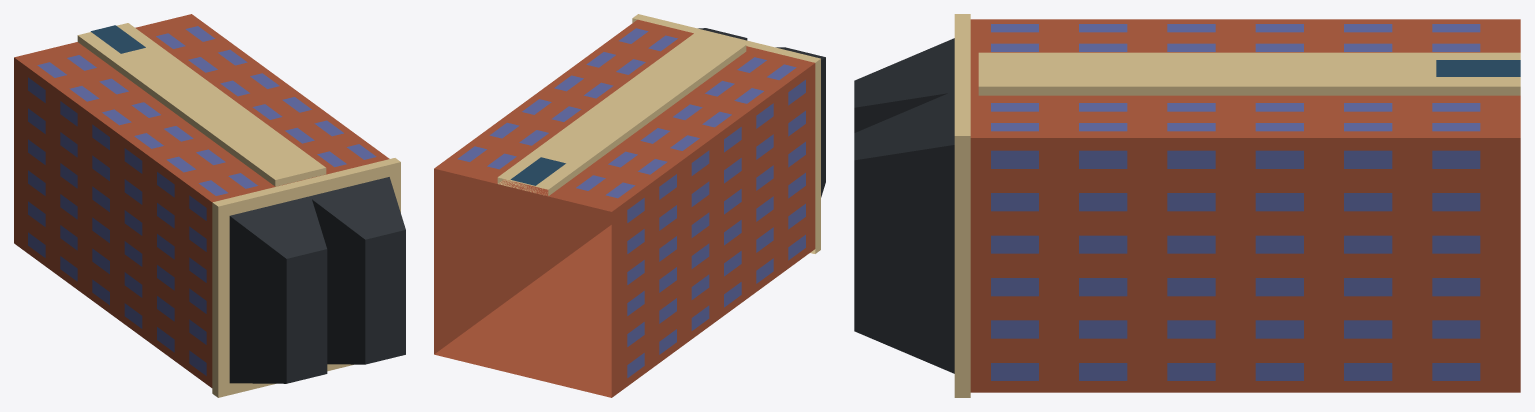
Rendered from complete.glb.
The picture shows the model from 3 angles, left to right: view 1: azimuth 30°, elevation 25°; view 2: azimuth 150°, elevation 25°; view 3: azimuth 270°, elevation 25°; orthographic projection. The views are drawn at different scales.
Visible parts, largest first — view 1: done; view 2: done; view 3: done.
Part boxes in pixels (left/top/right/bottom): done: left=14, top=14, right=405, bottom=397; done: left=434, top=14, right=825, bottom=397; done: left=854, top=14, right=1520, bottom=397.
Size of the model in its own units: 14.4 by 14.76 by 33.2.
